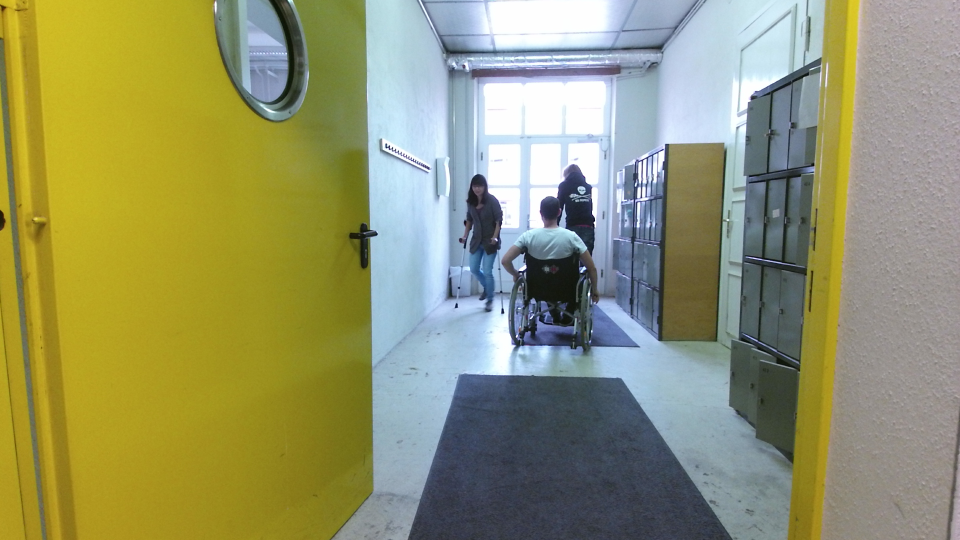crutches: (452, 172, 507, 317)
wheelchair: (498, 195, 603, 352)
